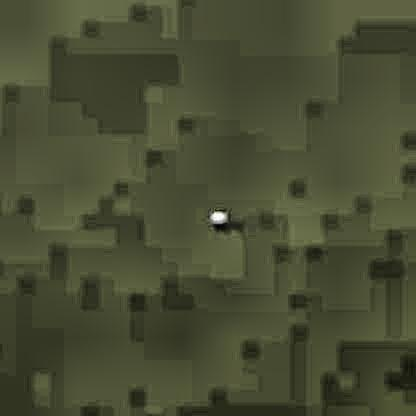golfball: (209, 209, 225, 223)
